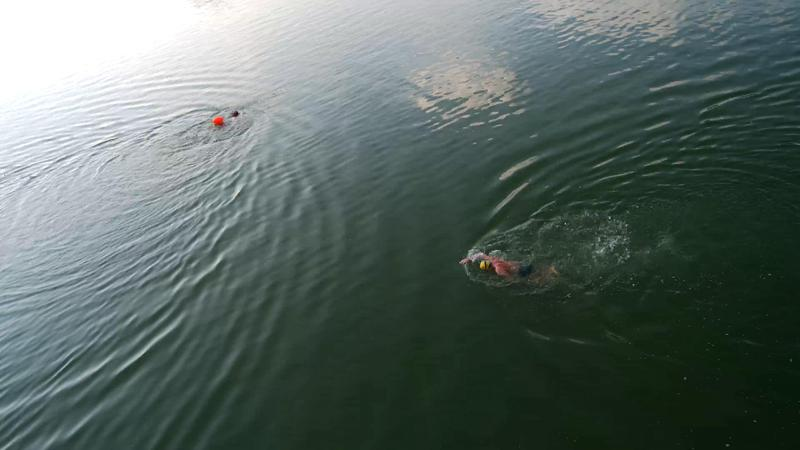swimmers: (457, 251, 558, 286)
